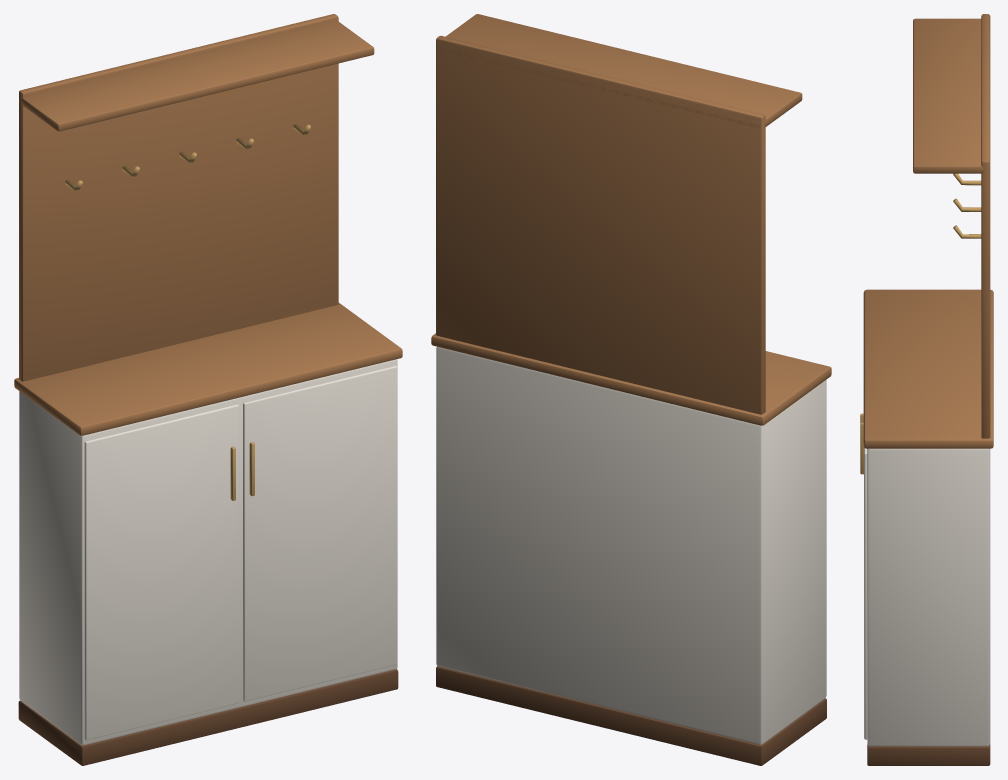
The model's file is hallstand.glb.
3 views of the same model, side by side, from view 1: azimuth 30°, elevation 25°; view 2: azimuth 150°, elevation 25°; view 3: azimuth 270°, elevation 25° (orthographic). The views are drawn at different scales.
Parts seen in each view (by area): view 1: box.007, box.002, box.003, box.001, box.006, box.008, box; view 2: box.001, box.007, box.008, box, box.006; view 3: box.001, box.006, box.008, box.007, box, box.003.
Boxes of the visible parts, bbox=[...] form: box.007: bbox=[19, 14, 338, 381]; box.002: bbox=[84, 404, 239, 740]; box.003: bbox=[243, 365, 397, 701]; box.001: bbox=[19, 359, 397, 745]; box.006: bbox=[14, 303, 402, 435]; box.008: bbox=[19, 21, 374, 131]; box: bbox=[18, 669, 398, 765]; box.001: bbox=[436, 346, 826, 744]; box.007: bbox=[436, 35, 765, 414]; box.008: bbox=[436, 14, 802, 127]; box: bbox=[436, 666, 826, 765]; box.006: bbox=[431, 333, 831, 425]; box.001: bbox=[867, 448, 990, 746]; box.006: bbox=[863, 289, 993, 448]; box.008: bbox=[913, 18, 989, 173]; box.007: bbox=[981, 14, 990, 438]; box: bbox=[867, 744, 990, 765]; box.003: bbox=[864, 447, 867, 739].
Bounding box in the file's own units: 102 × 190 × 38.
